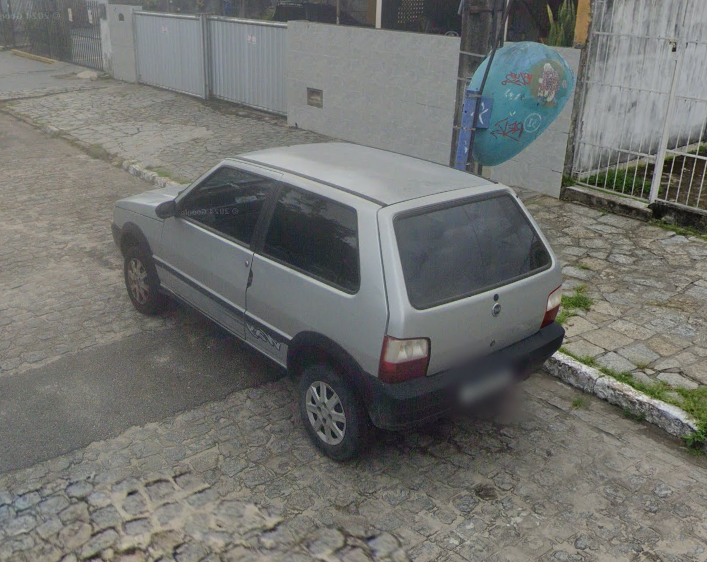car: (108, 137, 567, 464)
